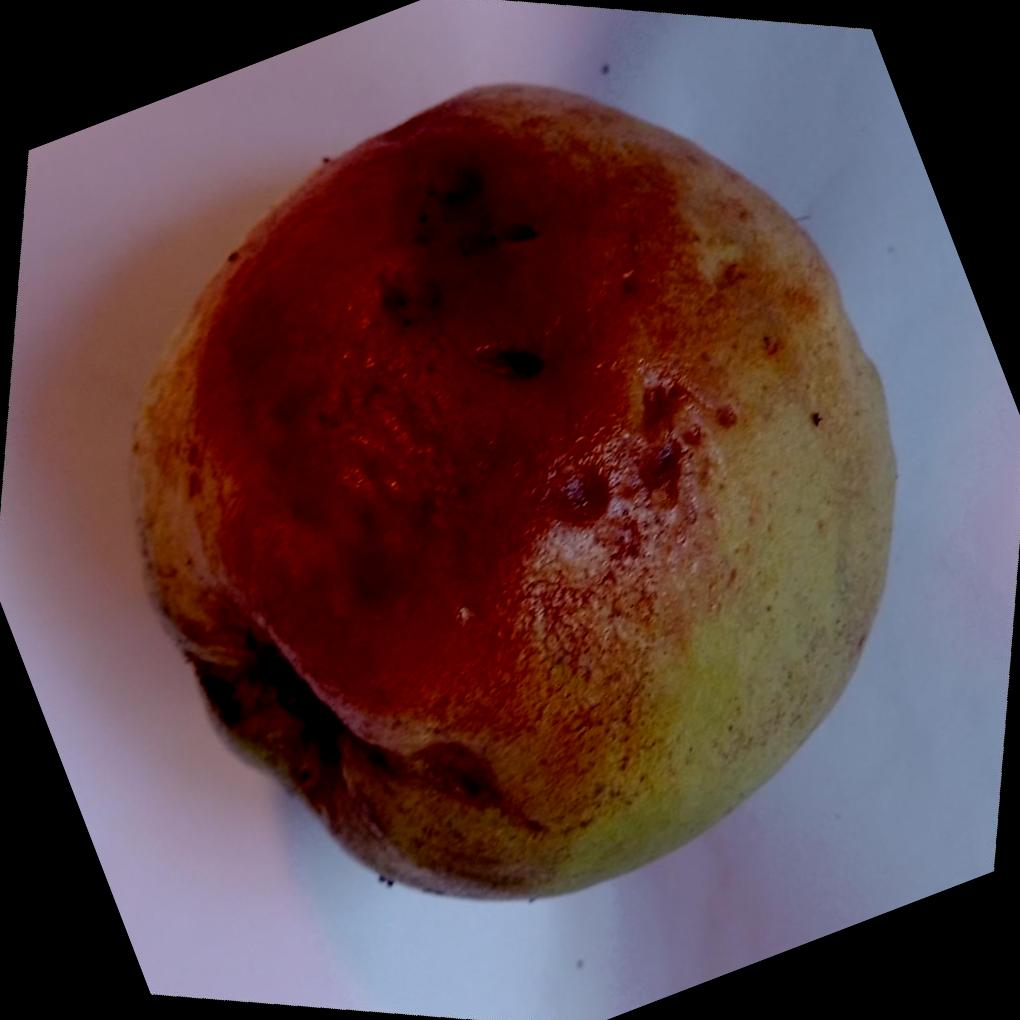FreshOrange: (127, 78, 898, 901)
